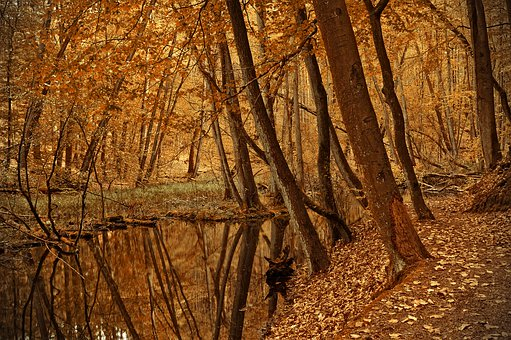forest: (8, 4, 511, 226)
tree: (186, 1, 438, 234), (1, 1, 161, 178)
